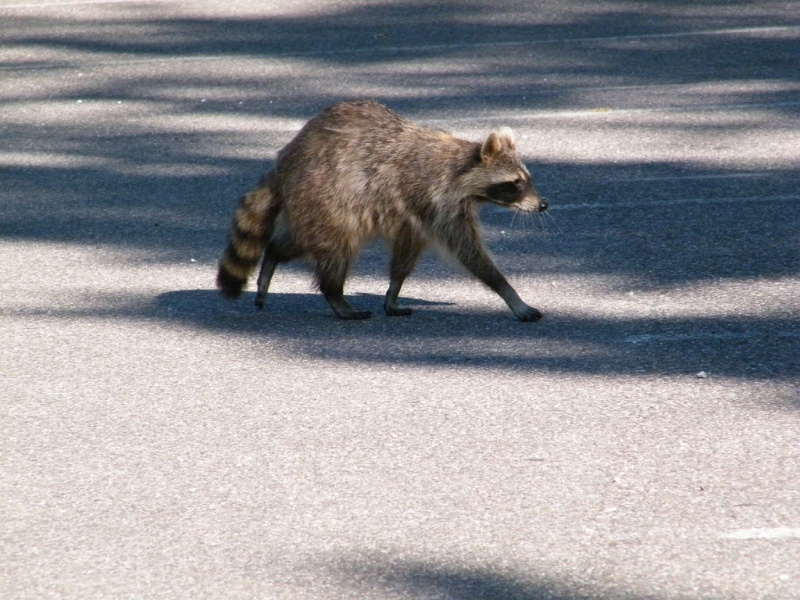raccoon: (216, 94, 548, 325)
